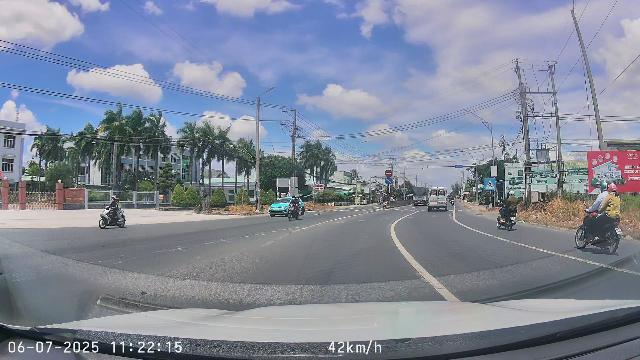423a-duong-nguoi-di-bo-sang-ngang-1: (485, 179, 496, 190)
